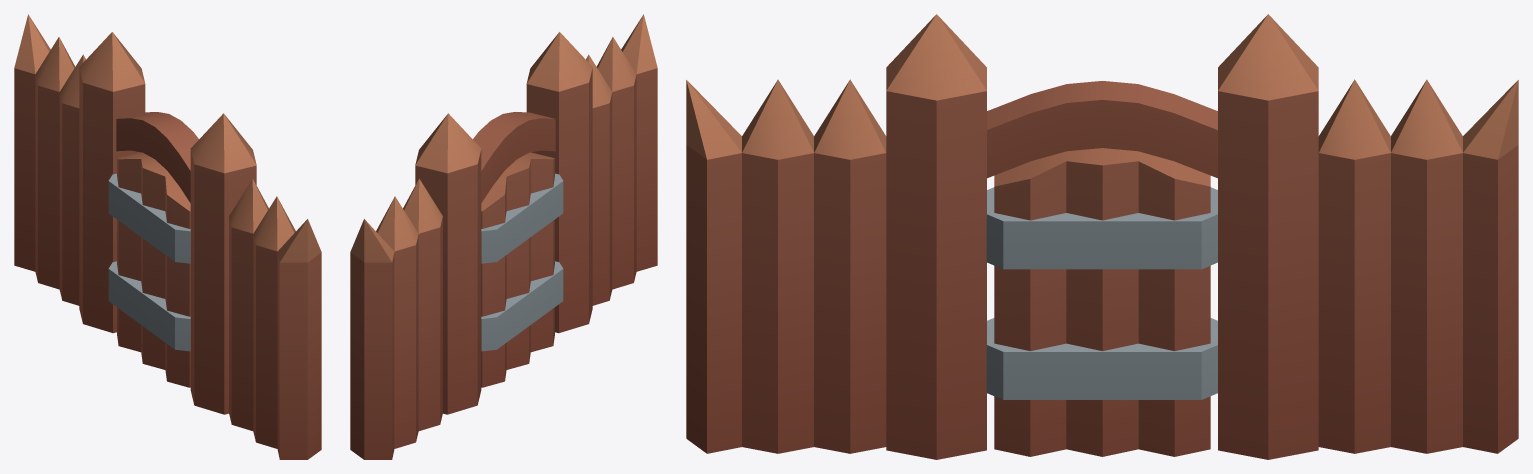
The model's file is fence_wood_gate.glb.
3 views of the same model, side by side, from view 1: azimuth 30°, elevation 25°; view 2: azimuth 150°, elevation 25°; view 3: azimuth 270°, elevation 25° (orthographic). The views are drawn at different scales.
Visible parts, largest first — view 1: fence_wood_straight_gate, fence_wood_straight_door; view 2: fence_wood_straight_gate, fence_wood_straight_door; view 3: fence_wood_straight_gate, fence_wood_straight_door.
Part boxes in pixels (bbox=[...]): fence_wood_straight_gate: bbox=[14, 14, 321, 459]; fence_wood_straight_door: bbox=[108, 152, 190, 387]; fence_wood_straight_gate: bbox=[350, 14, 657, 459]; fence_wood_straight_door: bbox=[481, 152, 563, 387]; fence_wood_straight_gate: bbox=[686, 14, 1518, 459]; fence_wood_straight_door: bbox=[986, 148, 1217, 456].
Size of the model in its own units: 0.14 by 0.65 by 1.15.
Materials: 1 (1 with a texture image).
